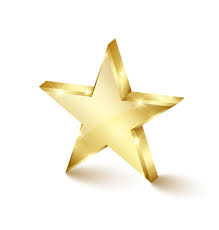star: (33, 32, 187, 191)
